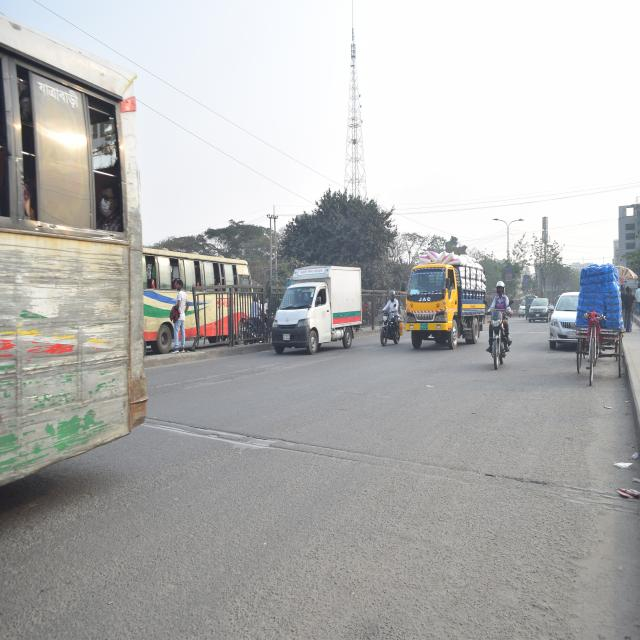bus: (2, 16, 152, 561), (141, 238, 254, 351)
car: (548, 286, 580, 358), (528, 290, 551, 330)
motorbike: (481, 292, 516, 380), (374, 300, 403, 353)
pickup-van: (270, 260, 366, 362), (400, 254, 486, 358)
